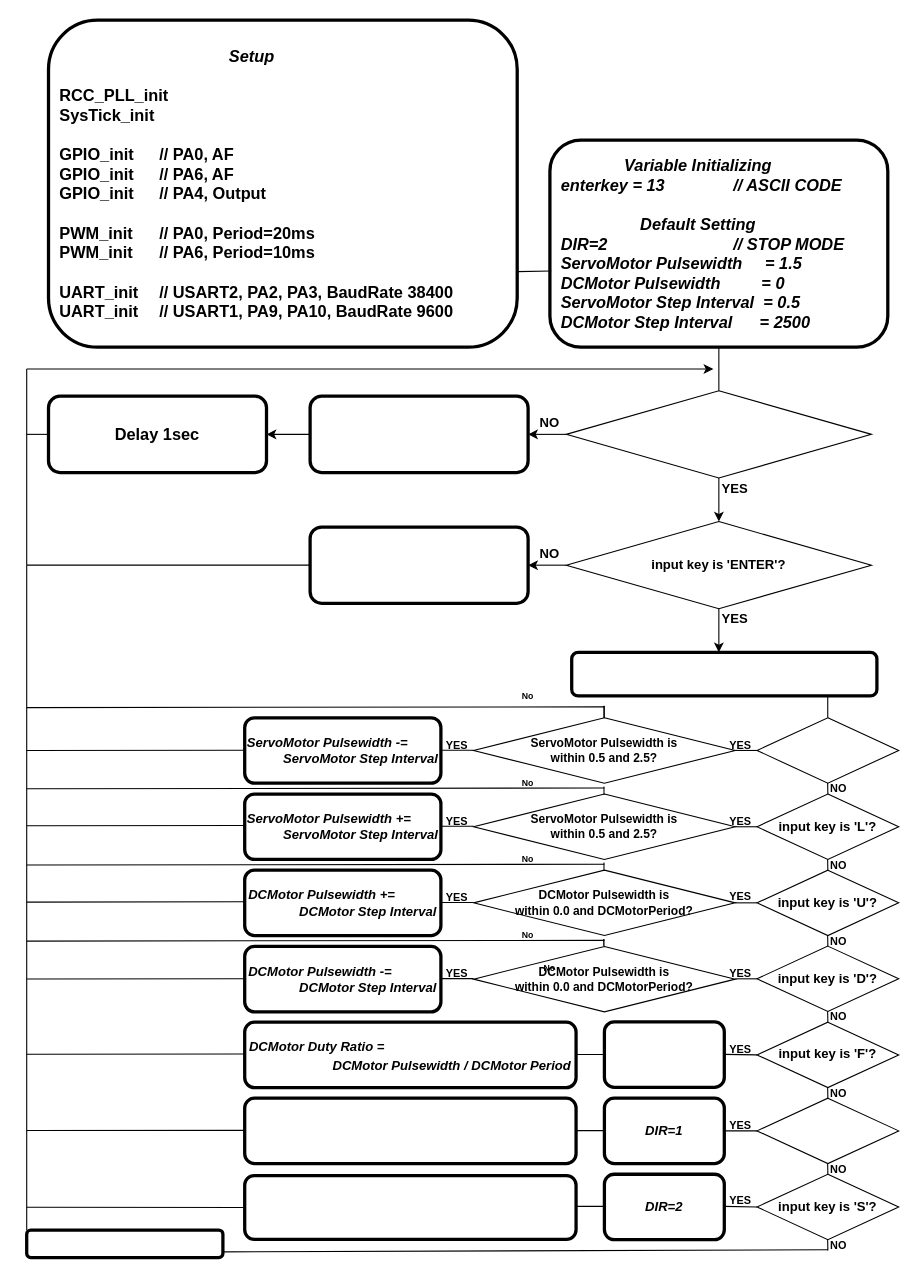
Some shapes in this 918 by 1279 pixel diagram are drawn without their labels. The shapes that lost their labels are listed below. From the top down, each one's centre as x and y in pixels, then its label:
point (418, 434): Print ServoMotor State Print DC State Print Current DIR
point (718, 434): USART Interrupt Occur?
point (418, 564): cmd = mcu2Data // Save input Key information
point (724, 673): Call Function:: RC_control(cmd)
point (827, 750): input key is 'R'?
point (663, 1054): DIR=0
point (410, 1130): DCMotor Duty Ratio = 1 - ( DCMotor Pulsewidth / DCMotor Period )
point (827, 1130): input key is 'B'?
point (410, 1207): Initialize ServoMotor Pulsewidth DCMotor Pulsewidth
point (124, 1243): Print ERROR Comment
